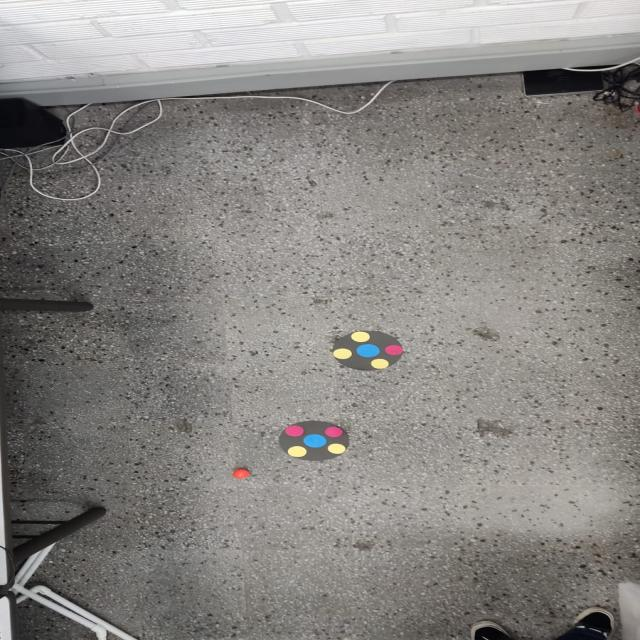1: (280, 421, 350, 461)
2: (332, 331, 403, 371)
Ball: (232, 469, 250, 479)
